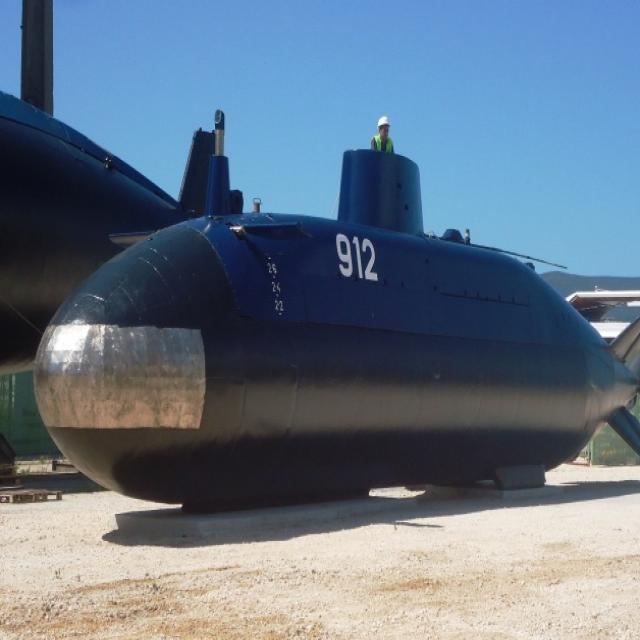submarine: (32, 150, 640, 514), (1, 62, 246, 374)
